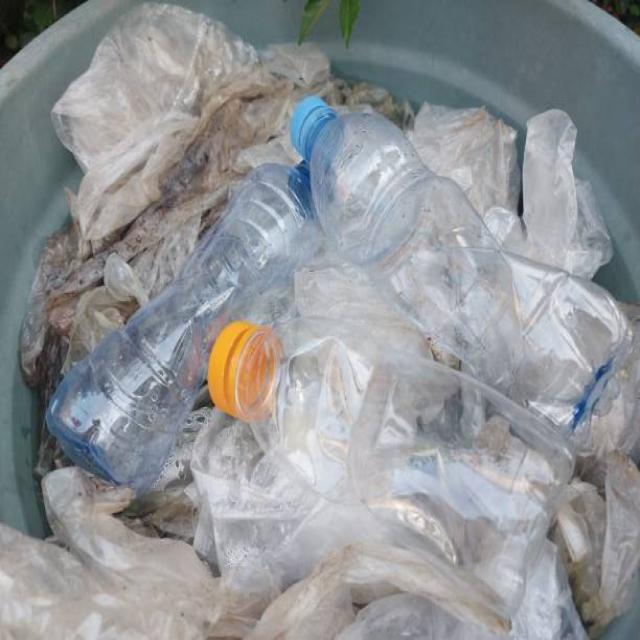plastic: (205, 238, 572, 606)
